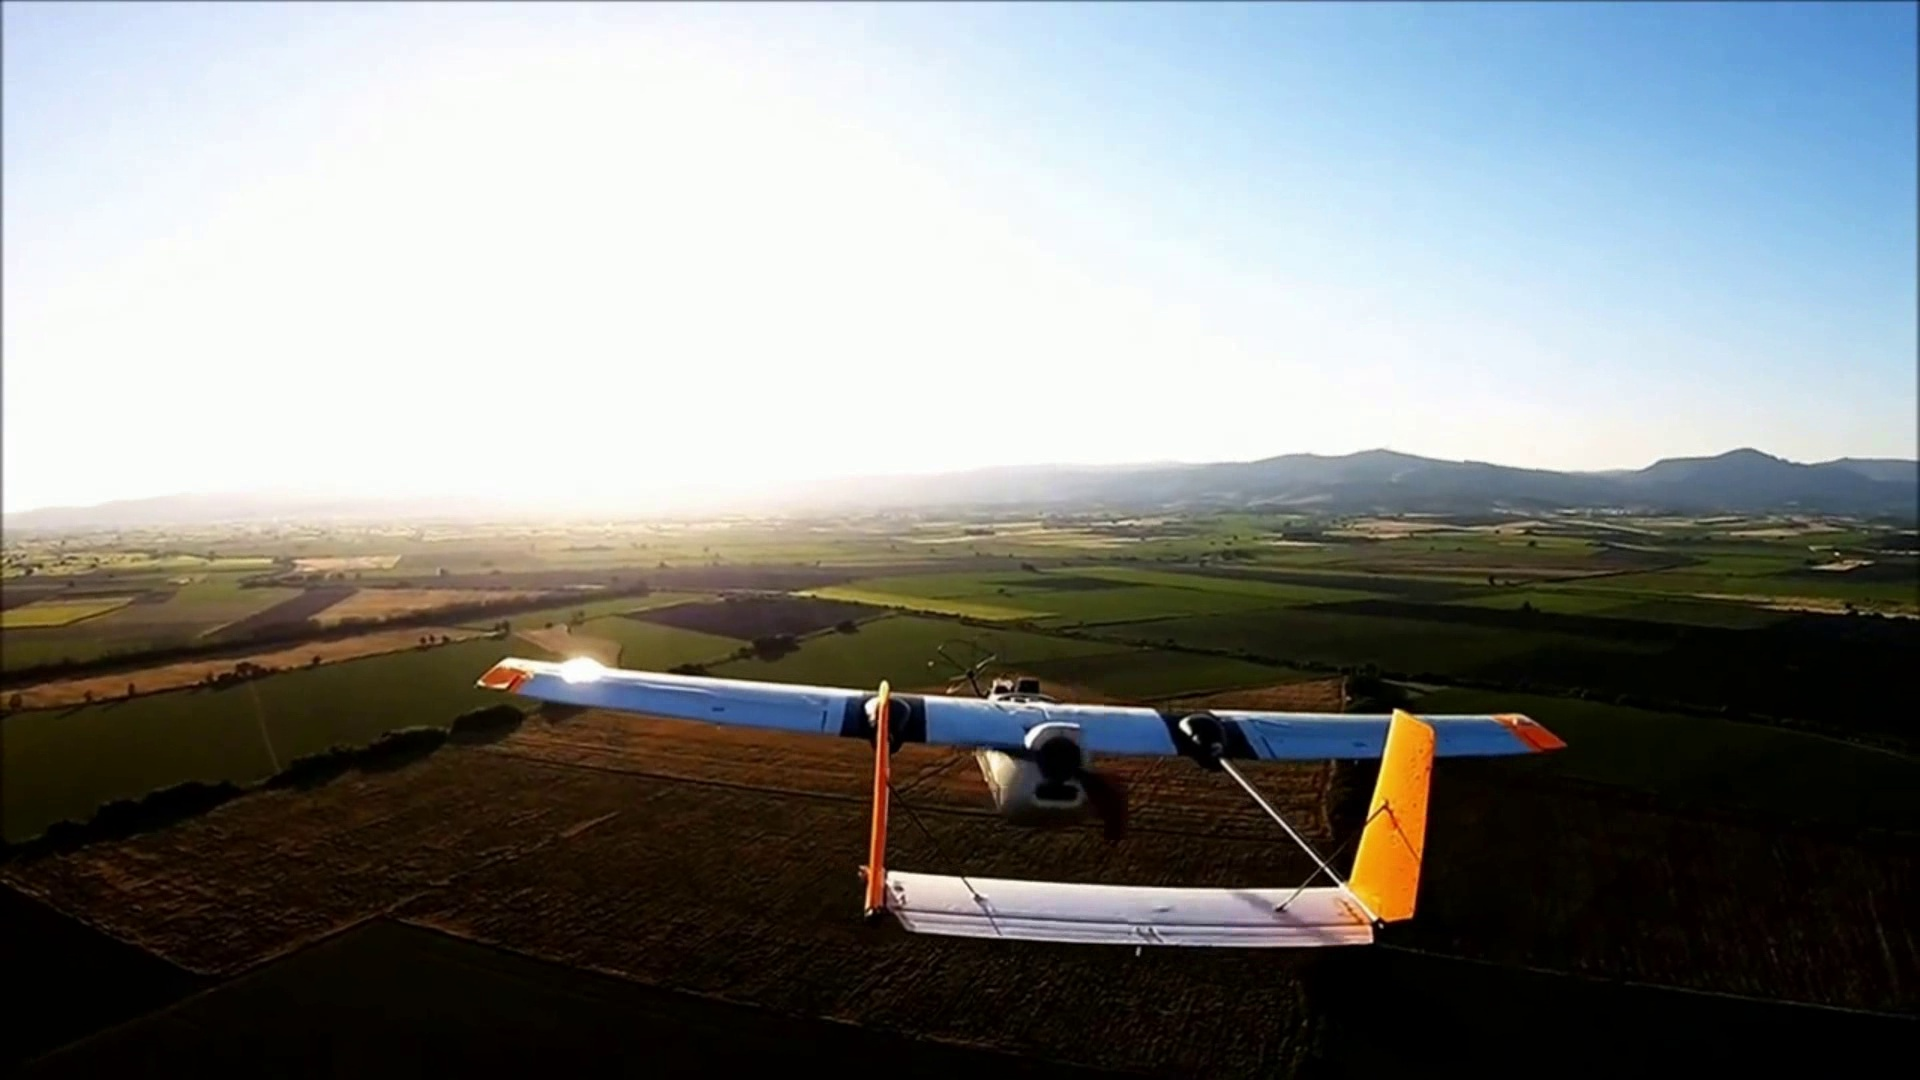airplane: (473, 650, 1560, 952)
